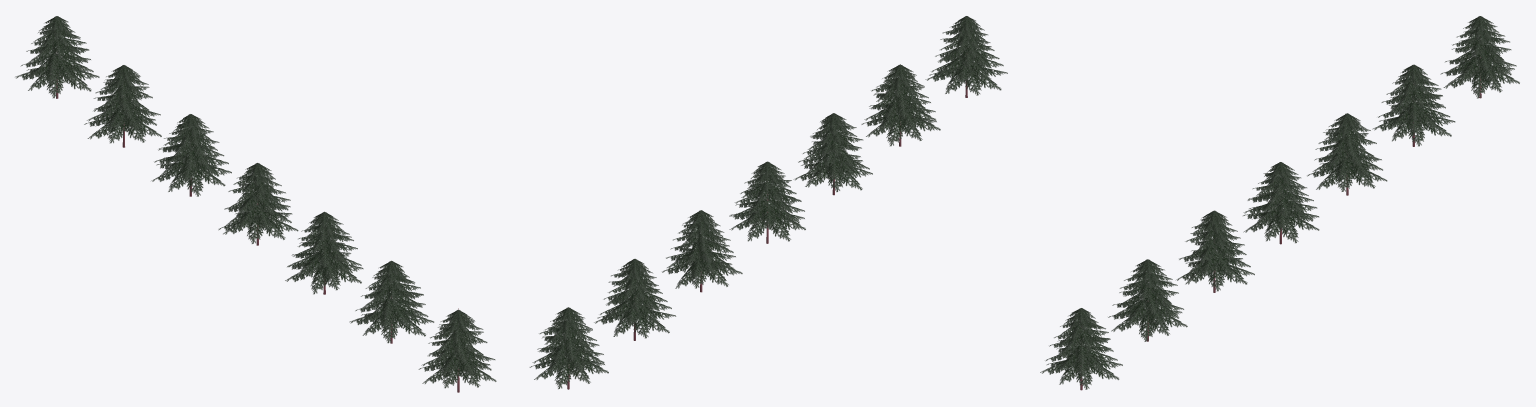
File: treepine_NS.glb
The picture shows the model from 3 angles, left to right: view 1: azimuth 30°, elevation 25°; view 2: azimuth 150°, elevation 25°; view 3: azimuth 330°, elevation 25°; orthographic projection.
Parts seen in each view (by area): view 1: Trees; view 2: Trees; view 3: Trees.
Boxes of the visible parts, bbox=[...] form: Trees: bbox=[15, 16, 496, 392]; Trees: bbox=[529, 16, 1007, 389]; Trees: bbox=[1040, 16, 1519, 390].
Size of the model in its own units: 16.19 by 17.39 by 166.
Materials: 2 (1 with a texture image).
